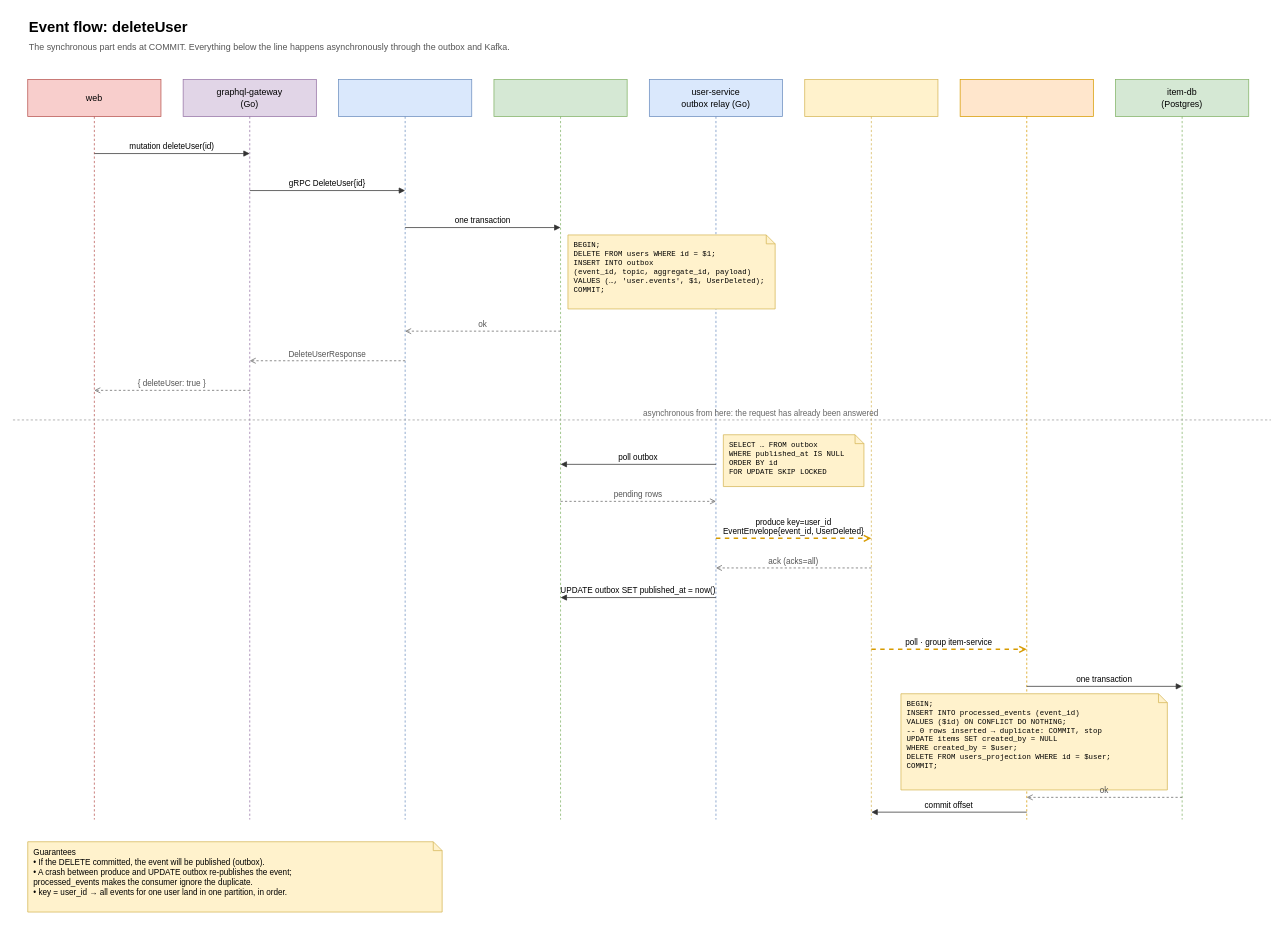
The diagram is 1285 pixels wide and 925 high, and some of its shapes have lost their labels. The box of each missing label's shape, as (x1, y1, x2, y2) in pixels:
item-service consumer (Rust): (959, 79, 1093, 820)
Kafka user.events: (804, 79, 938, 820)
user-db (Postgres): (493, 79, 627, 820)
user-service gRPC handler (Go): (338, 79, 472, 820)
